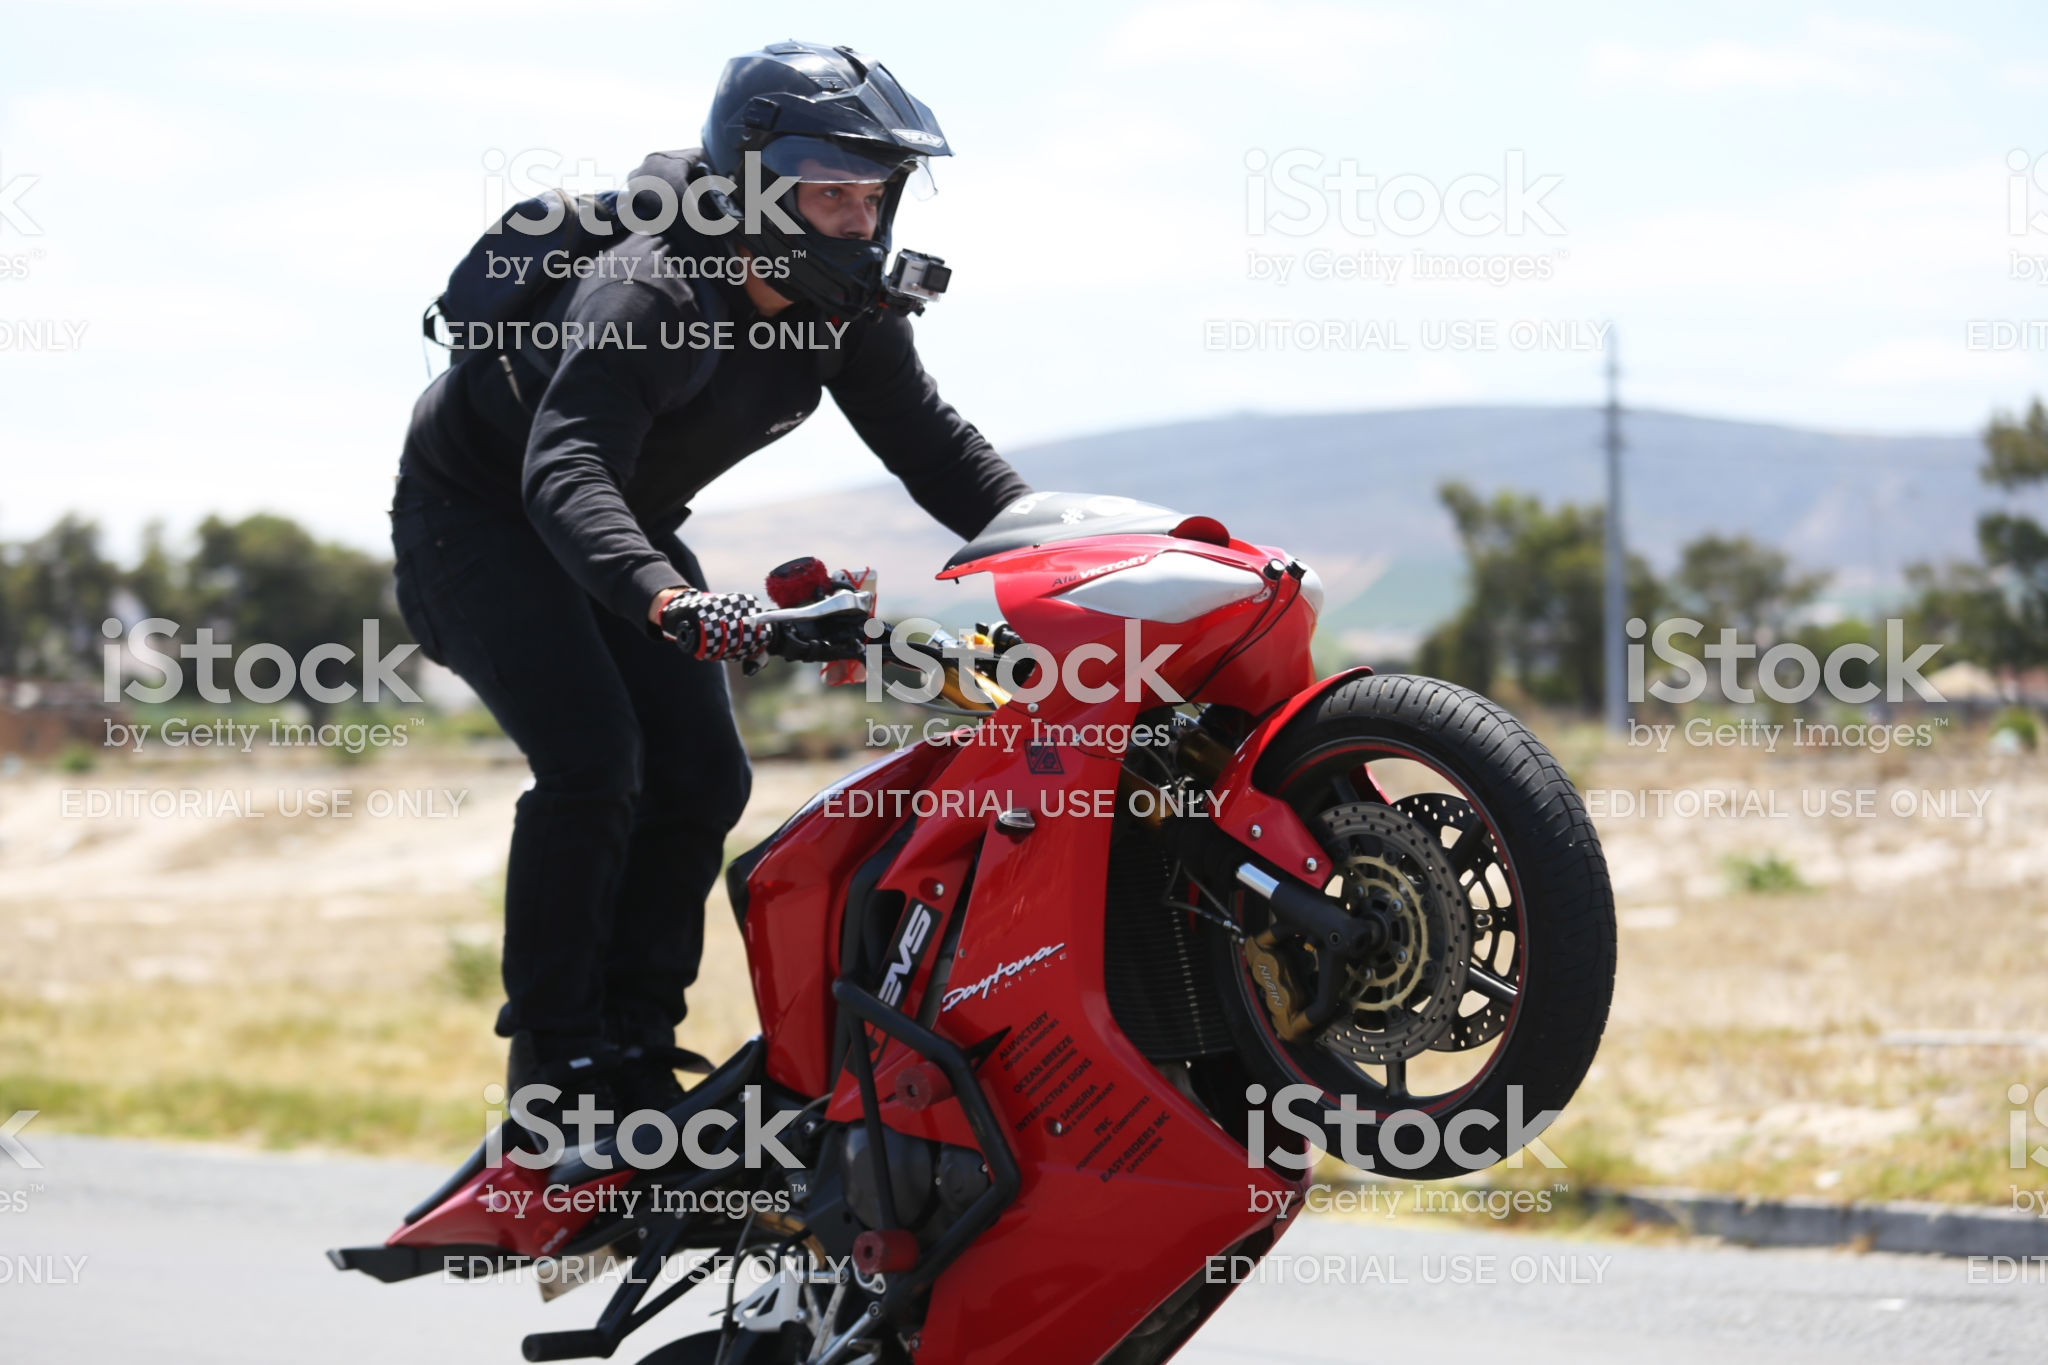helmet: (703, 44, 950, 204)
